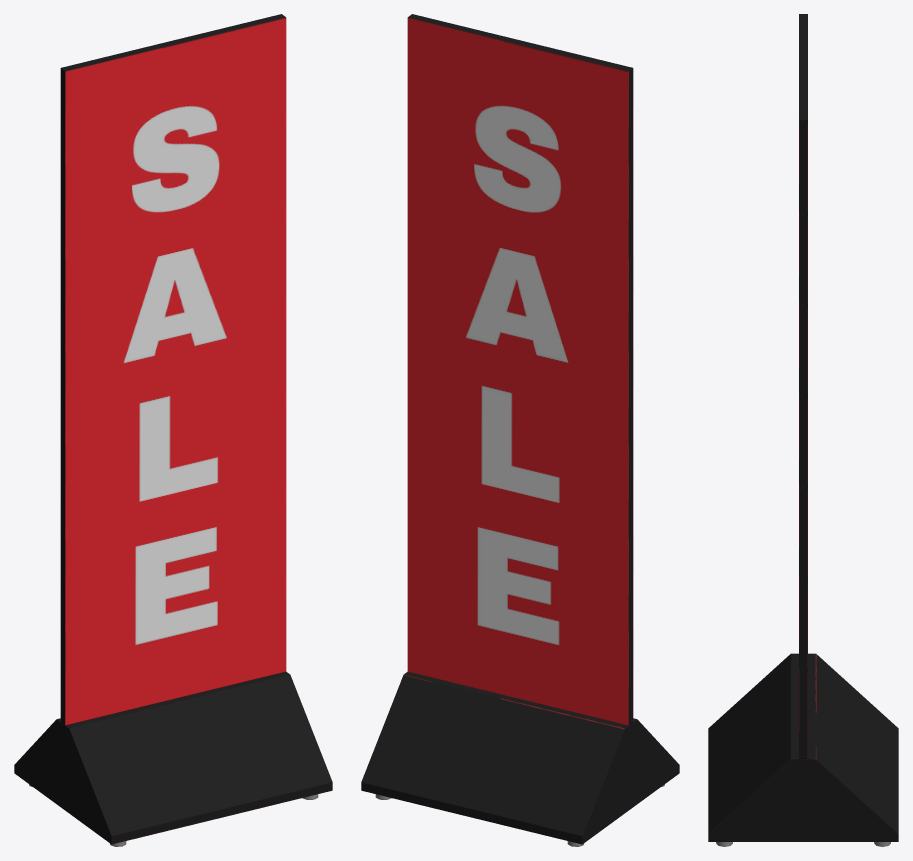
3 renders of one model, left to right at view 1: azimuth 30°, elevation 25°; view 2: azimuth 150°, elevation 25°; view 3: azimuth 270°, elevation 25°, orthographic. The views are drawn at different scales.
Visible parts, largest first — view 1: Sign_Stand; view 2: Sign_Stand; view 3: Sign_Stand.
Boxes of the visible parts, x1,y1,x2,y2 form: Sign_Stand: [14, 14, 332, 846]; Sign_Stand: [361, 14, 679, 846]; Sign_Stand: [708, 14, 898, 846].
Bounding box in the file's own units: 0.495 × 1.6 × 0.3775.
1 material, 1 textured.
